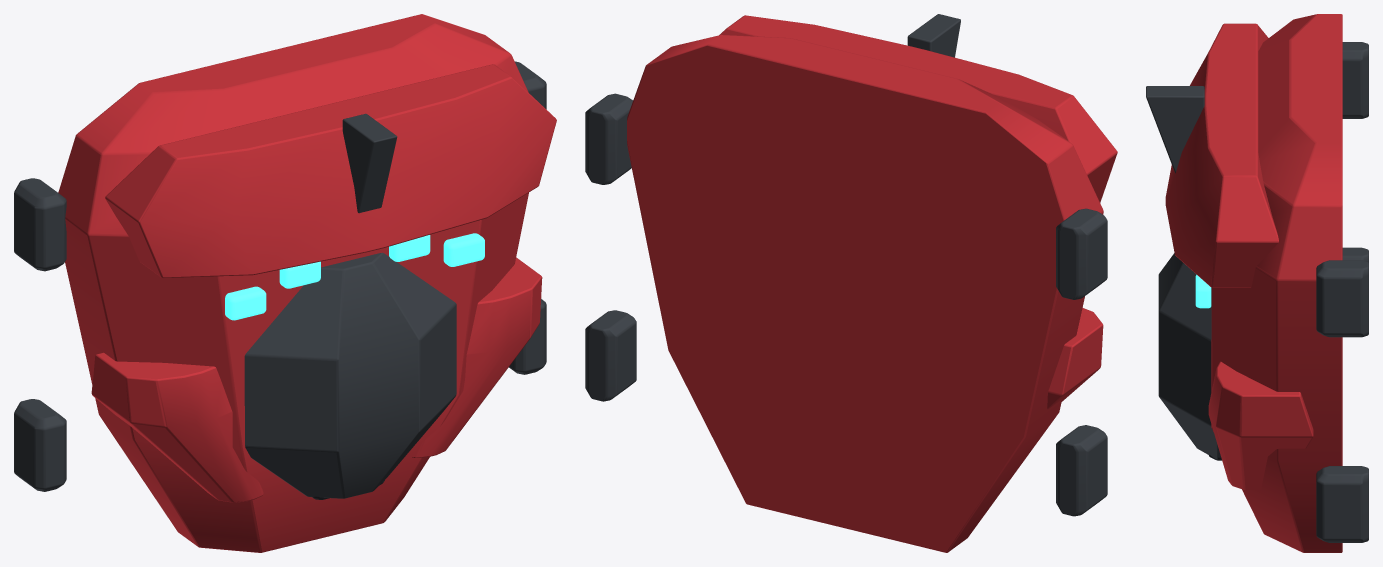
The model's file is HeadFront_Set09_Mantis.fbx.
3 renders of one model, left to right at view 1: azimuth 30°, elevation 25°; view 2: azimuth 150°, elevation 25°; view 3: azimuth 270°, elevation 25°, orthographic. The views are drawn at different scales.
Visible parts, largest first — view 1: HeadFront_Set09_Mantis; view 2: HeadFront_Set09_Mantis; view 3: HeadFront_Set09_Mantis.
Part boxes in pixels (x1,y1,x2,y2): HeadFront_Set09_Mantis: (14, 14, 556, 552); HeadFront_Set09_Mantis: (585, 14, 1117, 552); HeadFront_Set09_Mantis: (1146, 14, 1368, 552).
Bounding box in the file's own units: 0.63 × 0.54 × 0.2545.
